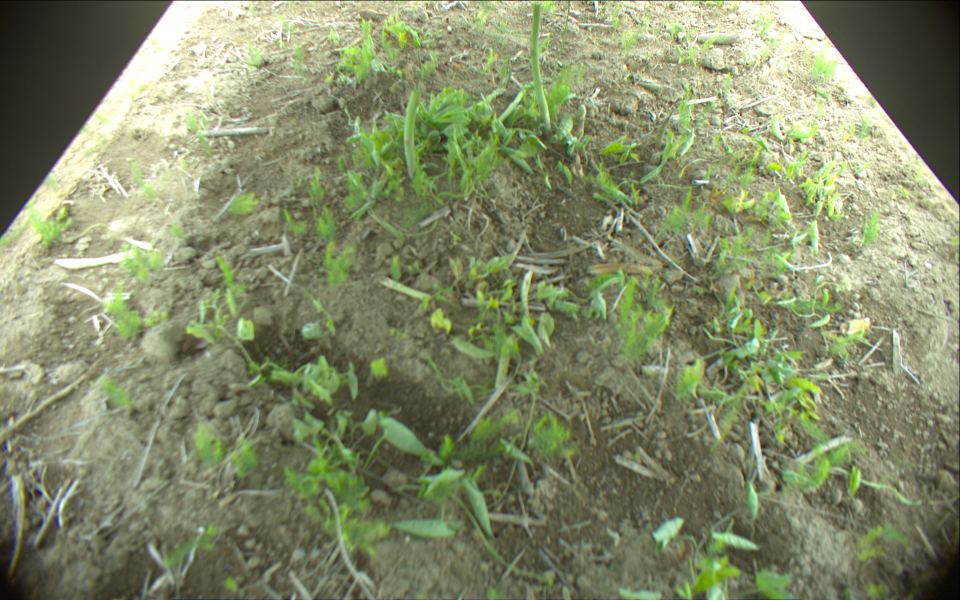aspa: (531, 1, 552, 132), (404, 88, 420, 182), (496, 87, 529, 127), (463, 87, 505, 114), (655, 108, 673, 145), (573, 102, 585, 139)
